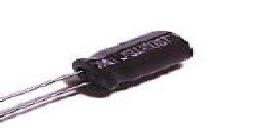Electrolytic-Capacitor: (1, 29, 196, 128)
